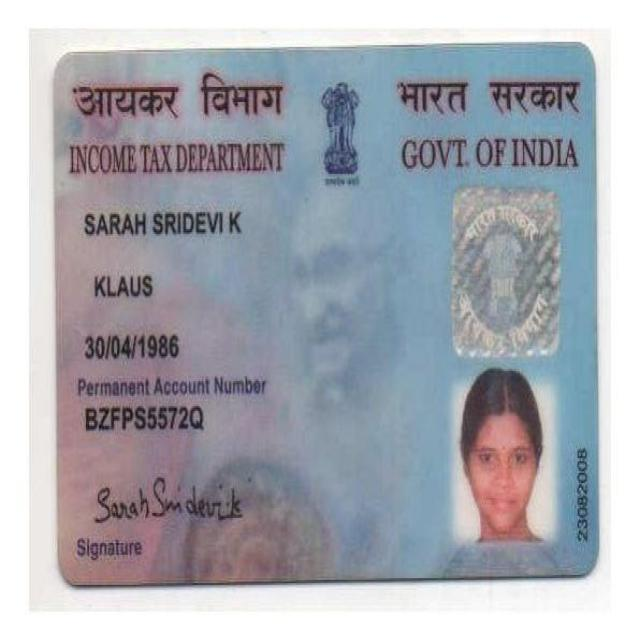pan_card: (57, 50, 594, 580)
